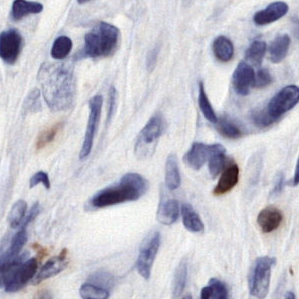Lymphocyte: (214, 166, 243, 193)
